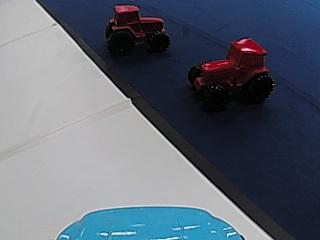Tracktor: (184, 36, 276, 106), (104, 3, 169, 53)
